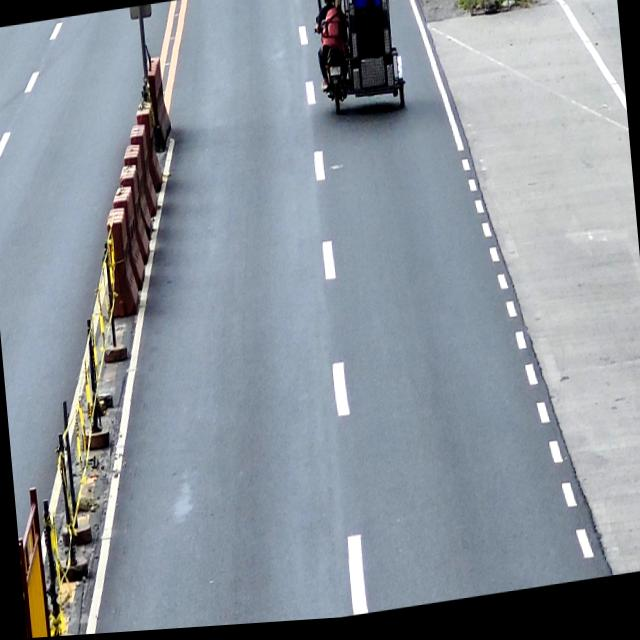License-Plate: (328, 69, 341, 81)
Tricycle: (308, 0, 408, 126)
